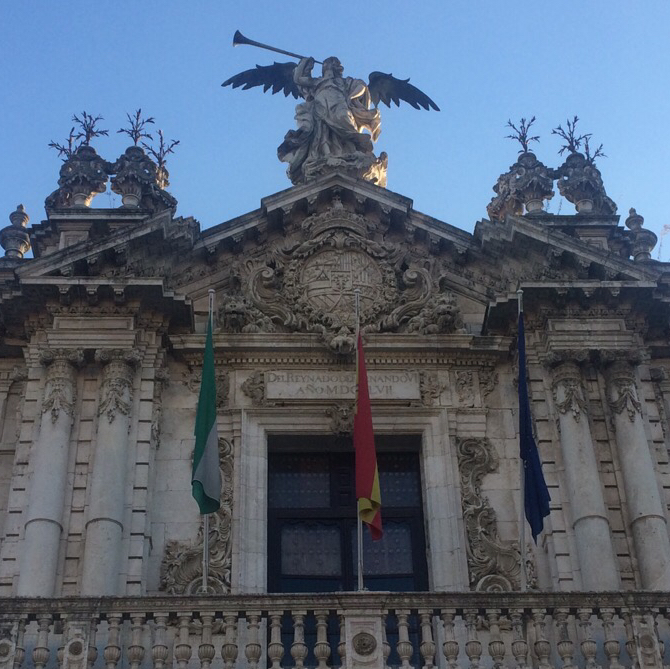fronton-partido: (1, 165, 670, 305)
vano-adintelado: (235, 402, 464, 669)
